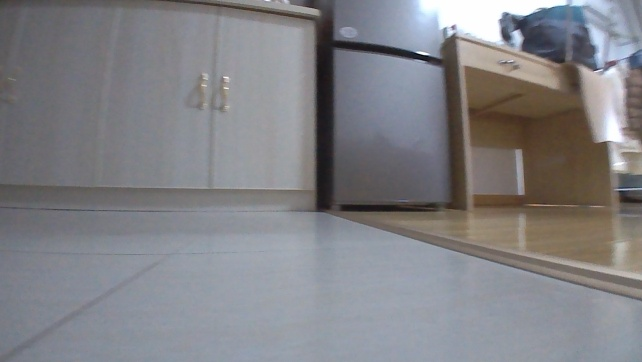cupboard: (0, 0, 323, 216)
refrigerator: (320, 0, 454, 213)
